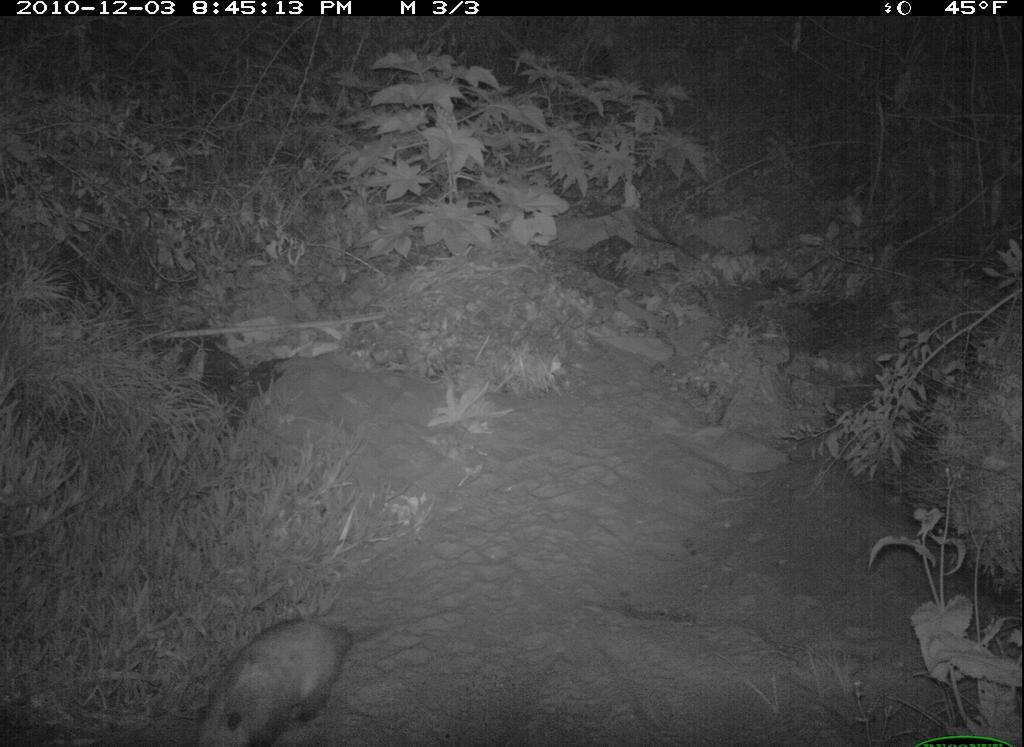opossum: (195, 605, 459, 747)
